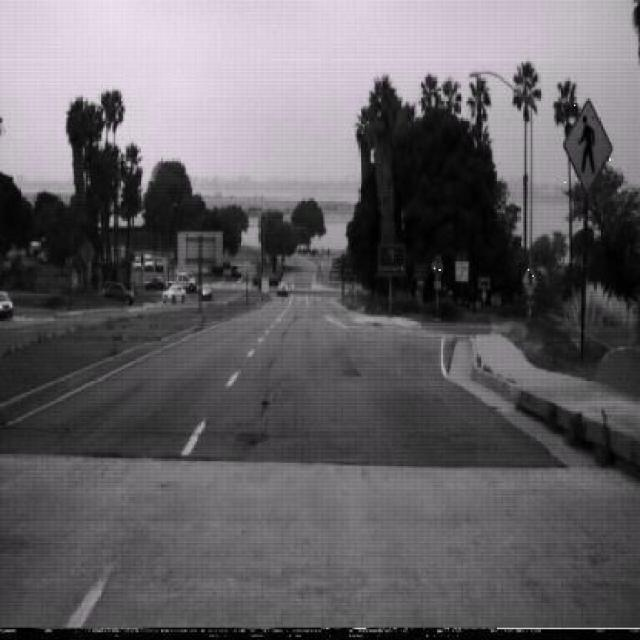pedestrianCrossing: (563, 97, 613, 194), (522, 263, 538, 297)
signalAhead: (432, 255, 445, 280)
